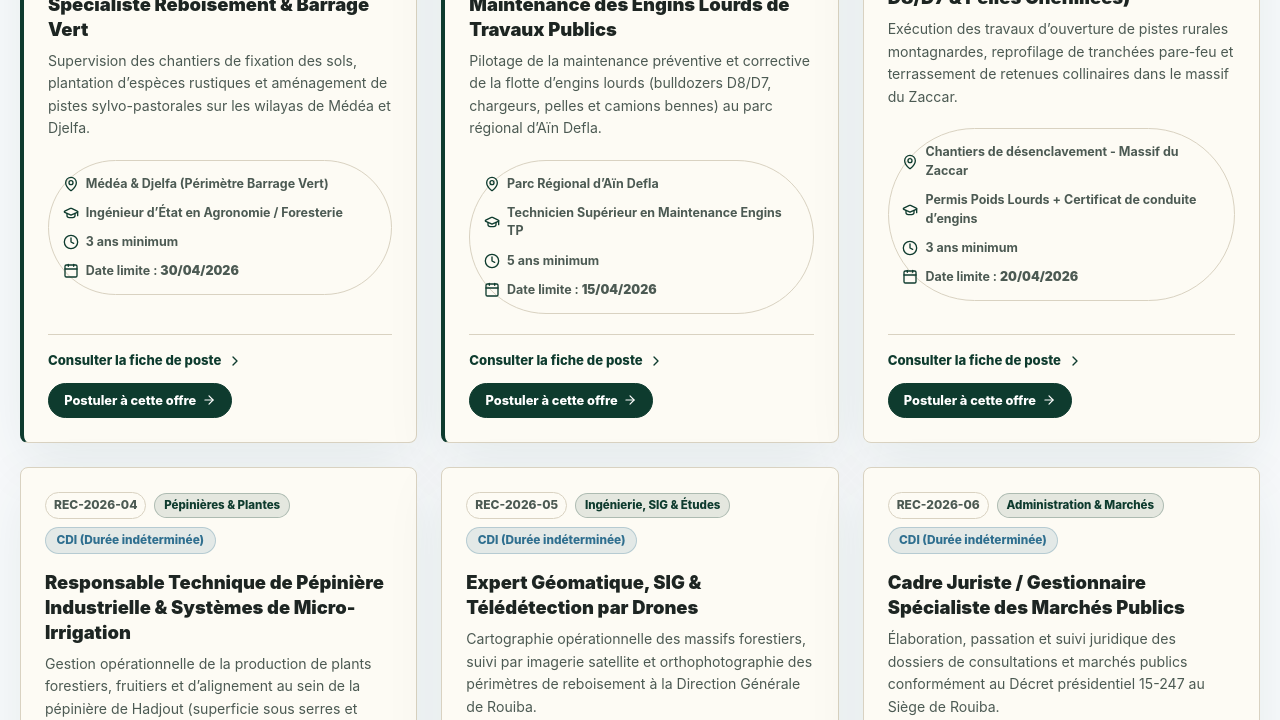
Test case: CareersPage › opens and closes the job detail modal
The image size is (1280, 720).
(page scrolled)
Click the button "Consulter la fiche de poste" below "30/04/2026" at (145, 361), box [48, 351, 243, 371]
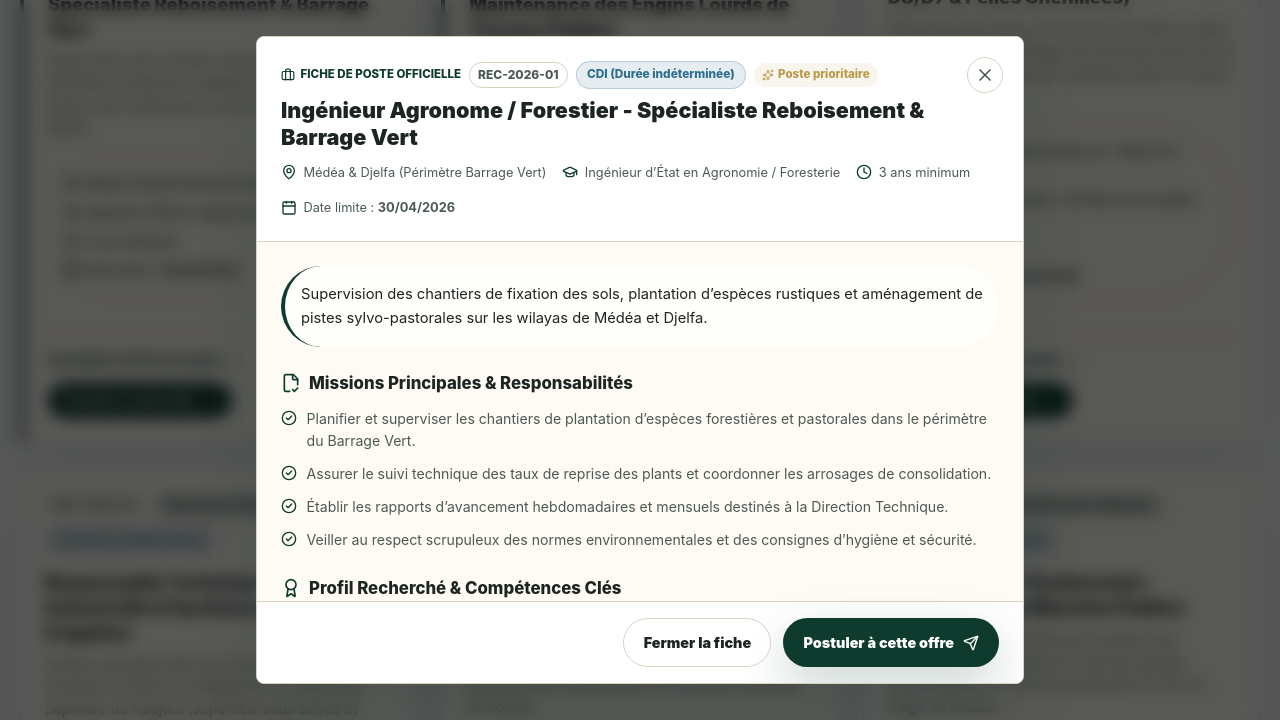
Check: the dialog is shown
Check: the text "Fiche de Poste Officielle" is shown, box [301, 66, 461, 84]
Check: the text "Missions Principales & Responsabilités" is shown, box [309, 371, 633, 396]
Click the button named "Fermer la fiche" at (985, 75), box [967, 57, 1003, 93]
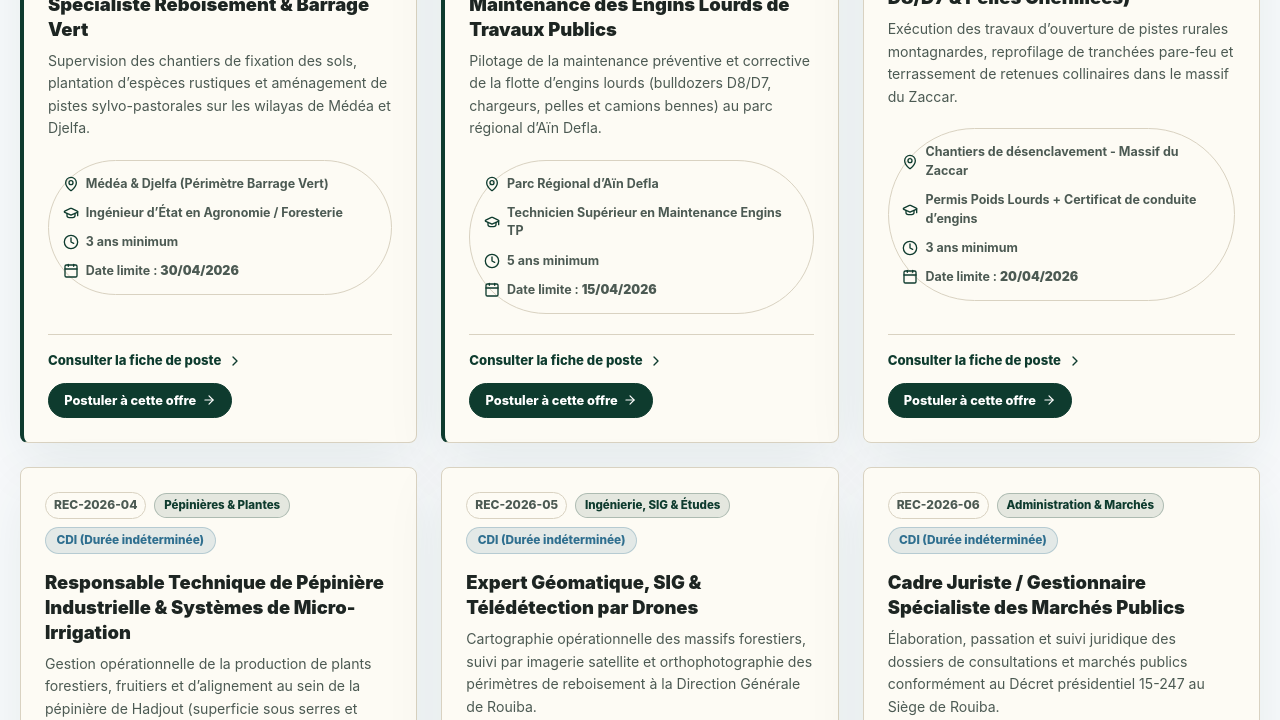
Check: the dialog is gone
